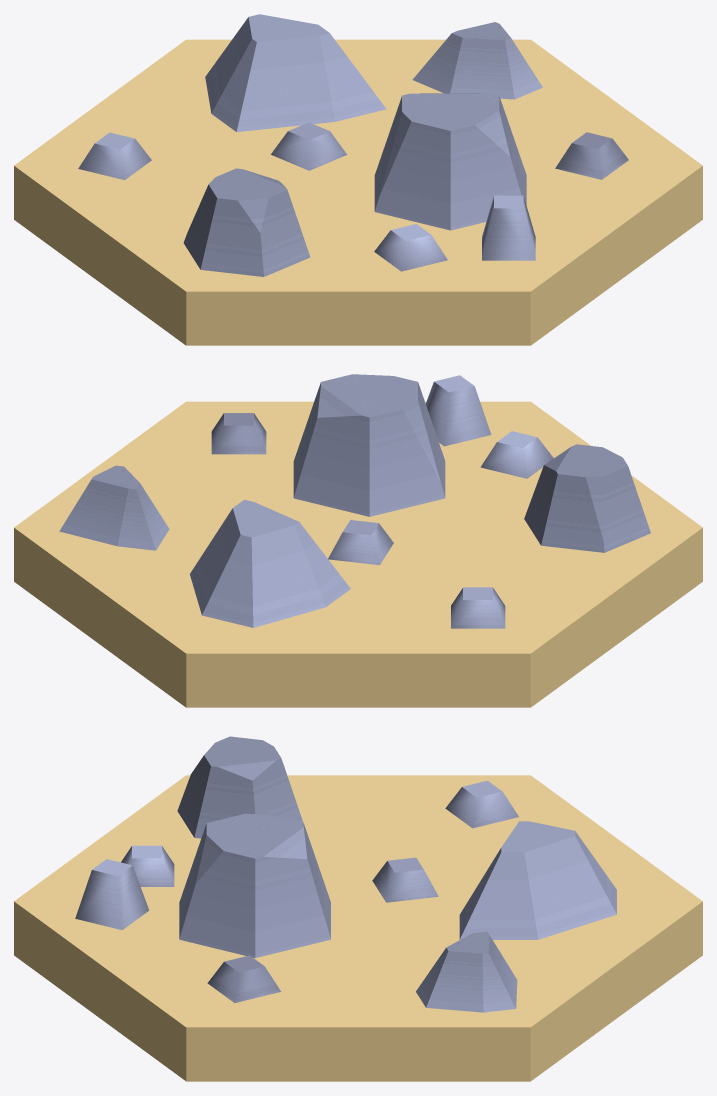
Rendered from hx_water-rocks.glb.
3 views of the same model, one above another, from view 1: azimuth 30°, elevation 25°; view 2: azimuth 150°, elevation 25°; view 3: azimuth 270°, elevation 25° (orthographic).
Size of the model in its own units: 1 by 0.2593 by 1.15.
1 material, 1 textured.
